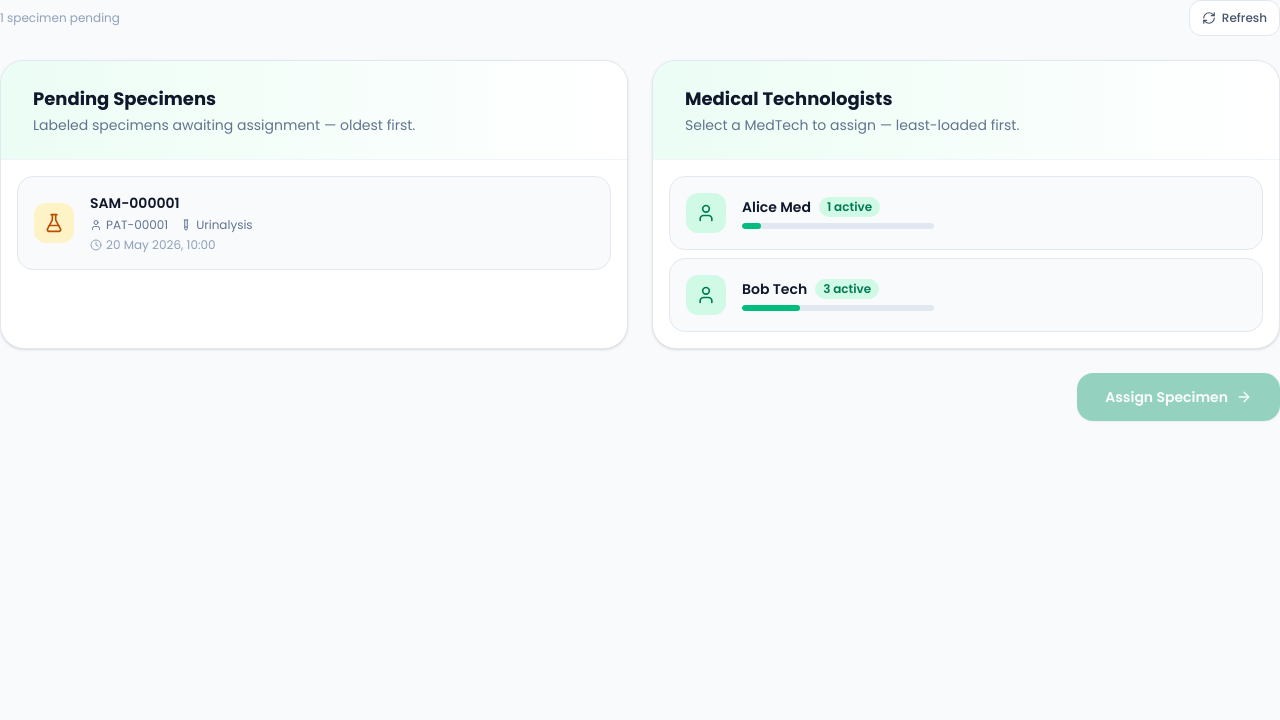
QueueAssignmentDashboard › closes modal and clears selection after successful assignment
Click the text "SAM-000001" at [135, 203], box [90,193,180,213]
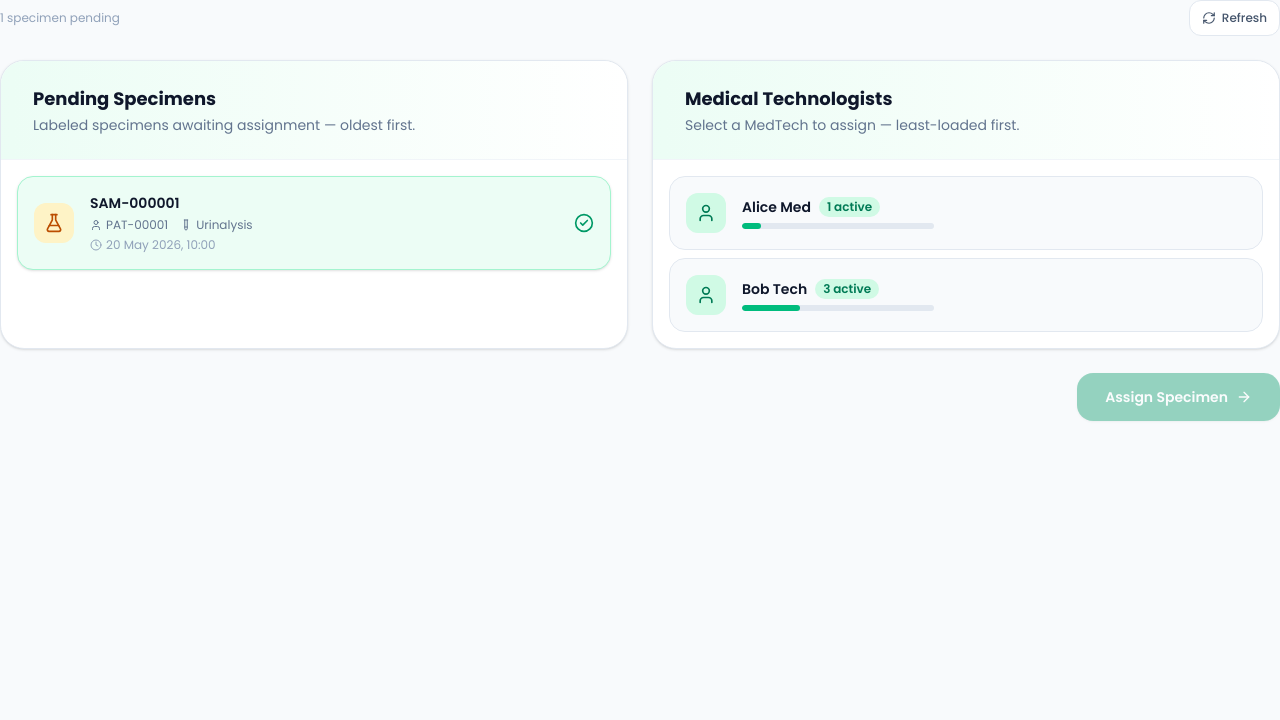
Click the text "Alice Med" at [776, 207], box [742,197,811,217]
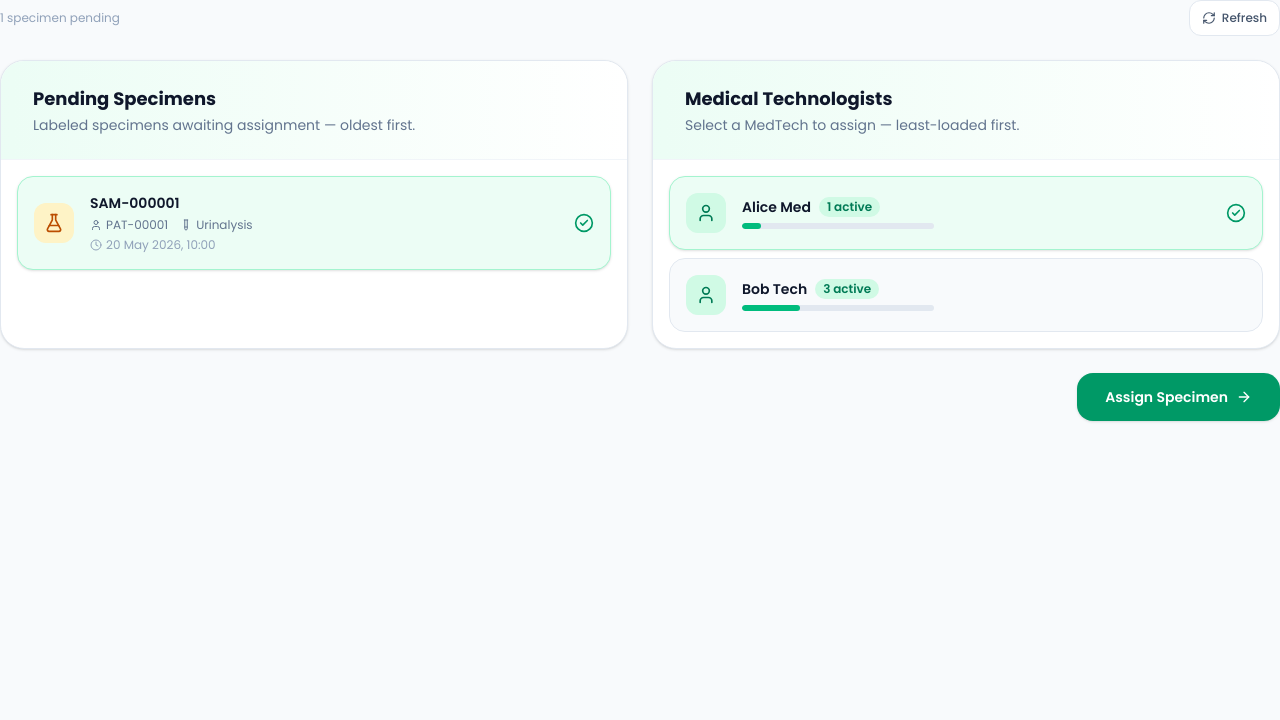
Click the button "Assign Specimen" at [1179, 397], box [1077,373,1279,421]
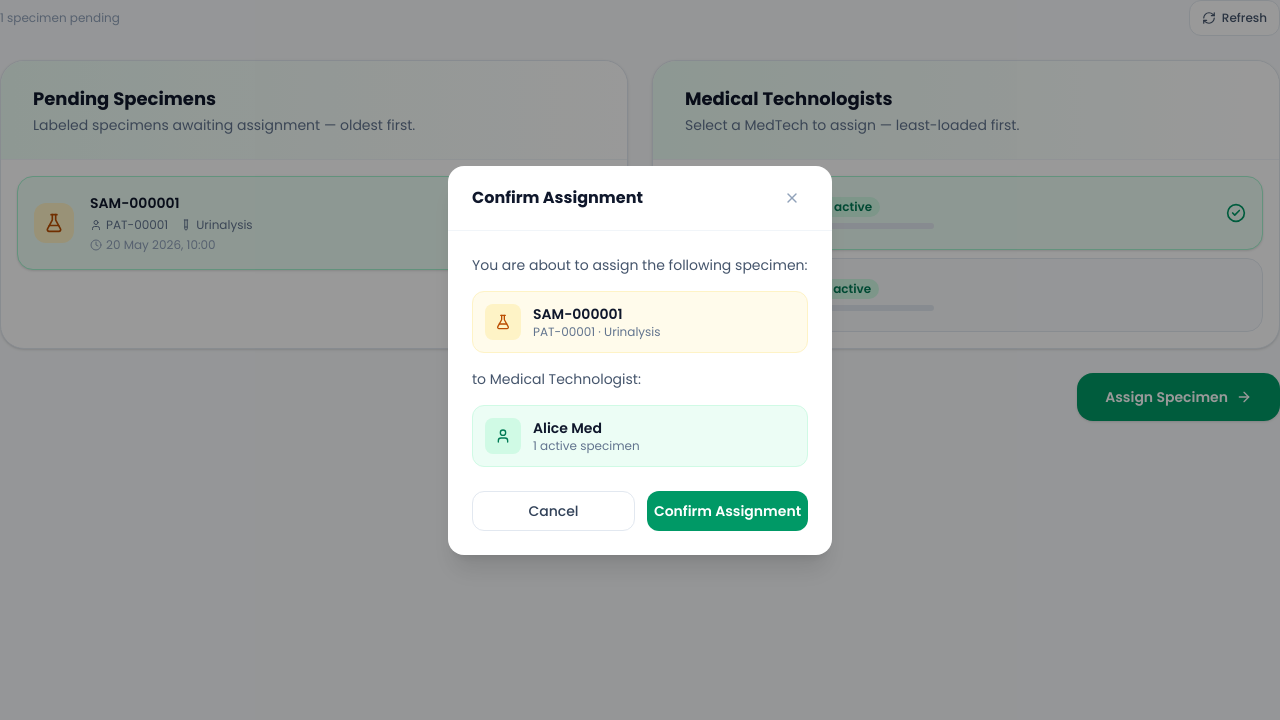
Check: the heading "Confirm Assignment" is shown, box [472,186,643,210]
Click the button "Confirm Assignment" at [728, 510], box [647,490,808,530]
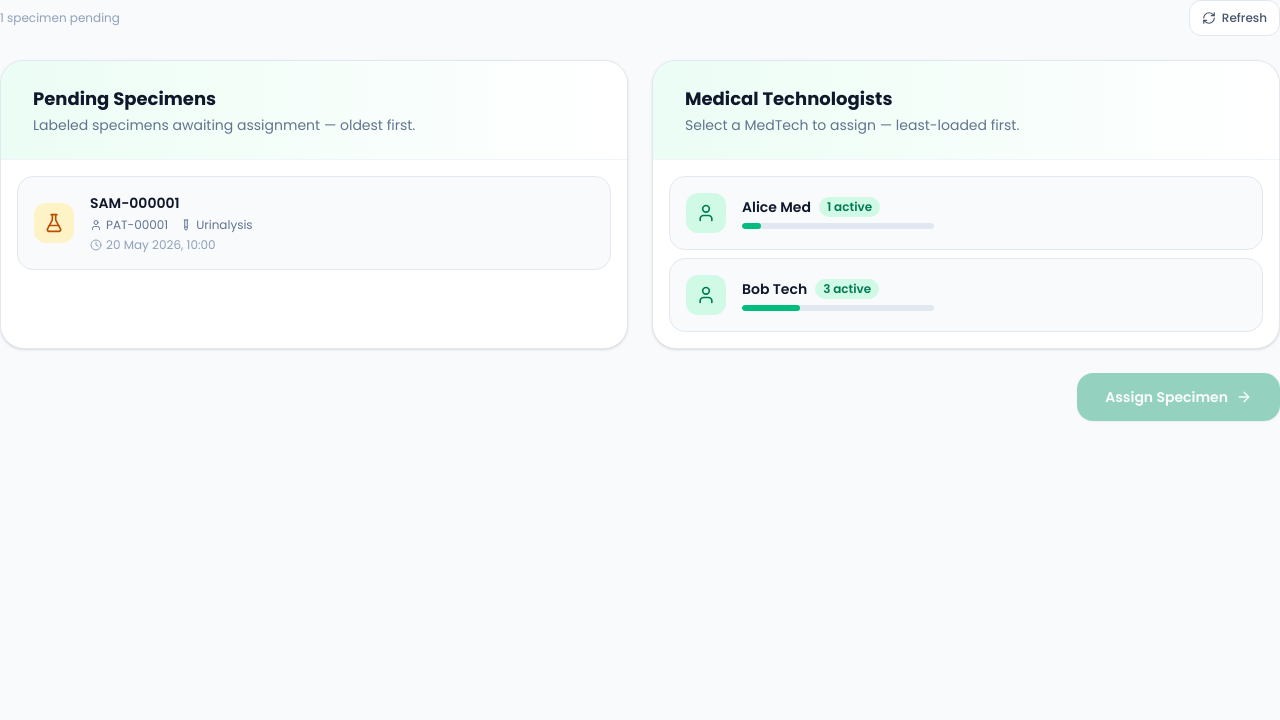
Check: the heading "Confirm Assignment" is gone
Check: the button "Assign Specimen" is disabled, box [1077,373,1279,421]
